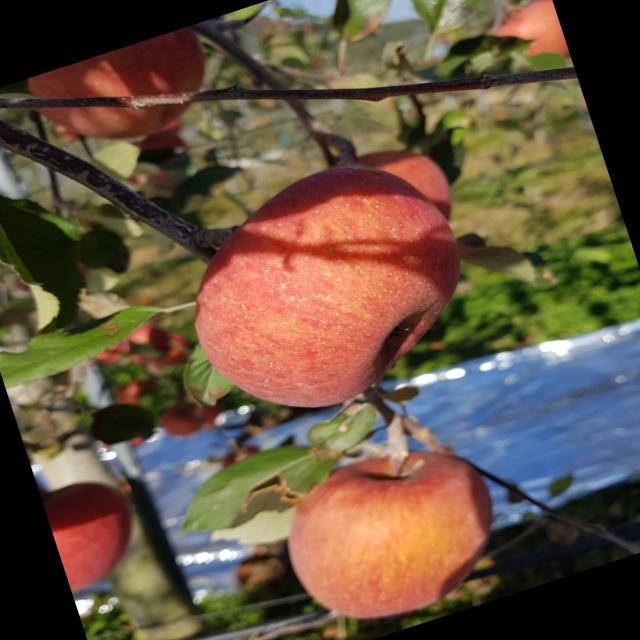fresh: (144, 122, 511, 451)
